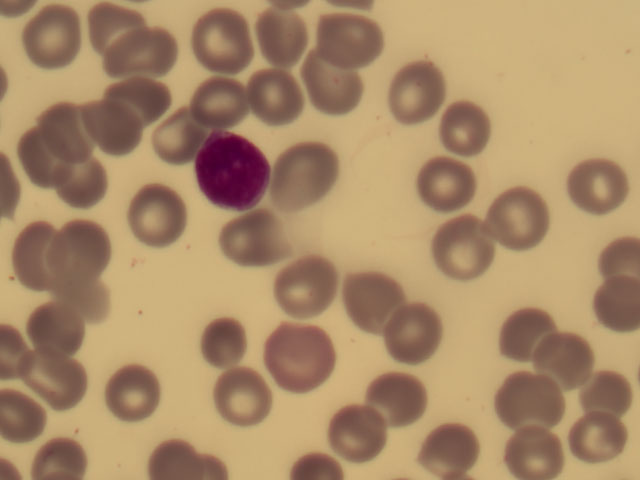RBC: (311, 5, 388, 74), (376, 60, 453, 129), (296, 50, 373, 119), (244, 66, 321, 135), (187, 68, 264, 137), (140, 103, 217, 172), (108, 70, 185, 139), (70, 95, 147, 164), (107, 23, 184, 92), (76, 9, 153, 78), (20, 3, 97, 72), (36, 93, 113, 162), (6, 119, 83, 188), (43, 148, 120, 217), (57, 220, 134, 289), (52, 260, 129, 329), (19, 289, 96, 358), (19, 340, 96, 409), (80, 360, 157, 429), (28, 411, 105, 480), (189, 369, 266, 438), (178, 297, 255, 366), (259, 313, 336, 382), (274, 257, 351, 326), (206, 207, 283, 276), (269, 142, 346, 211), (116, 181, 193, 250), (325, 404, 402, 473), (361, 367, 438, 436), (372, 302, 449, 371), (341, 264, 418, 333), (426, 212, 503, 281), (477, 180, 554, 249), (409, 146, 486, 215), (438, 101, 515, 170), (563, 151, 640, 220), (533, 323, 610, 392), (489, 288, 566, 357), (487, 356, 564, 425), (495, 411, 572, 480), (559, 411, 636, 480), (563, 361, 640, 430), (411, 411, 488, 480), (245, 1, 322, 70), (1, 225, 77, 294), (177, 1, 254, 69)
WBC: (189, 130, 280, 210)
